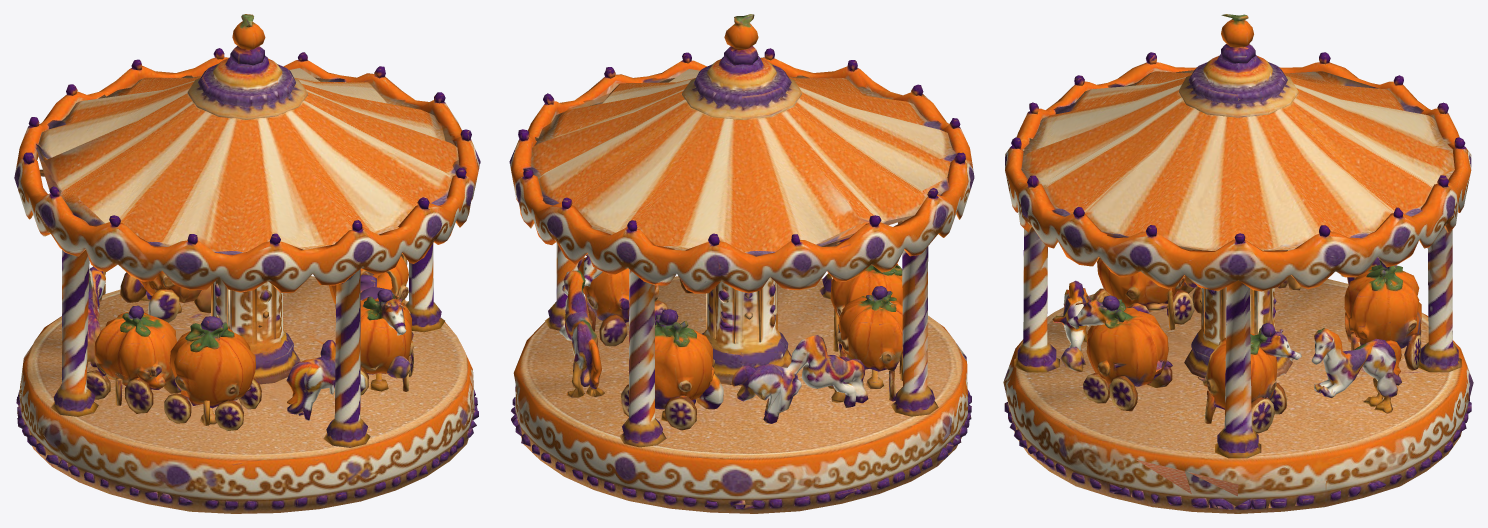
The model's file is AW-HW-CAROUSEL-001-v0.2.glb.
3 views of the same model, side by side, from view 1: azimuth 30°, elevation 25°; view 2: azimuth 150°, elevation 25°; view 3: azimuth 270°, elevation 25° (orthographic).
Parts seen in each view (by area): view 1: AW-HW-CAROUSEL-001_meter_ground_pivot; view 2: AW-HW-CAROUSEL-001_meter_ground_pivot; view 3: AW-HW-CAROUSEL-001_meter_ground_pivot.
Boxes of the visible parts, x1,y1,x2,y2 form: AW-HW-CAROUSEL-001_meter_ground_pivot: [14, 14, 480, 513]; AW-HW-CAROUSEL-001_meter_ground_pivot: [509, 14, 974, 513]; AW-HW-CAROUSEL-001_meter_ground_pivot: [1003, 14, 1473, 513].
Bounding box in the file's own units: 10.6 × 10 × 10.56.
Materials: 1 (1 with a texture image).
